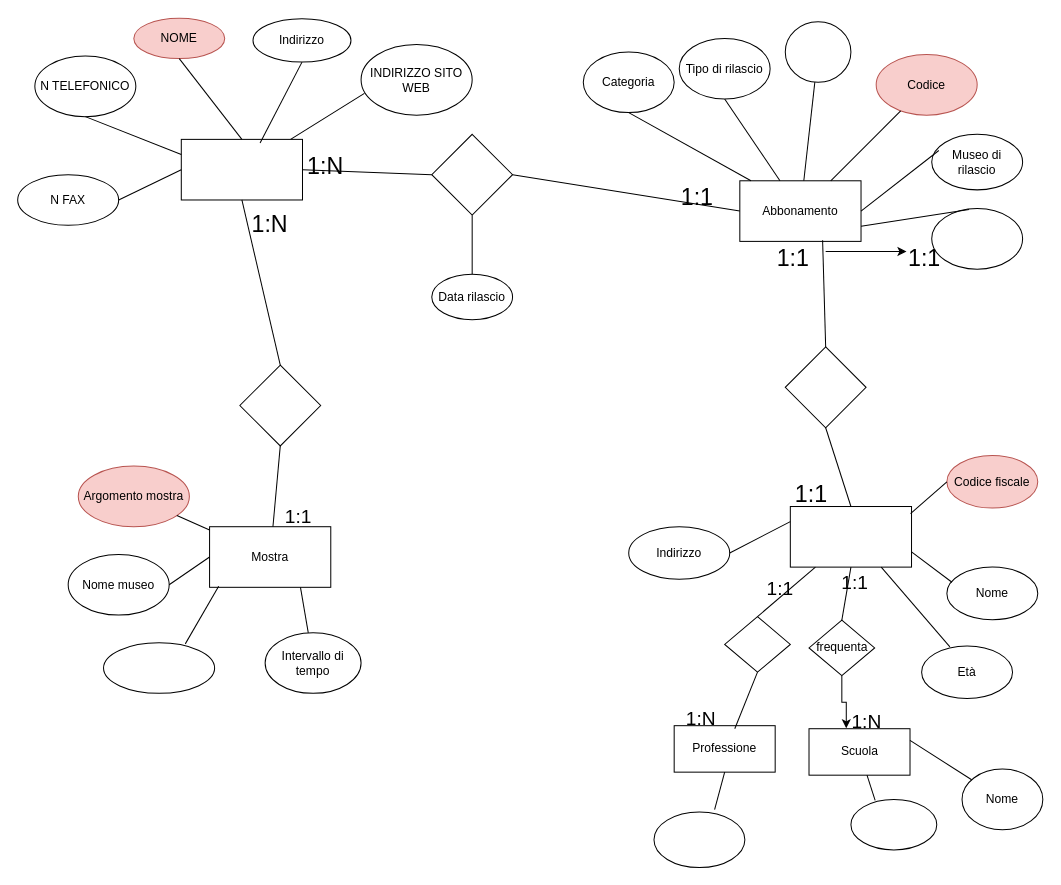
The diagram is 1061 pixels wide and 885 high, and some of its shapes have lost their labels. Each missing label, with the box of its shape:
Affluenza: (103, 642, 215, 693)
Avviene la: (239, 364, 321, 446)
Costo: (784, 21, 851, 82)
E' posseduto da: (784, 346, 866, 428)
Intestatario: (931, 208, 1023, 269)
MUSEO: (180, 138, 302, 200)
Persona: (789, 506, 912, 567)
Rilascia: (431, 133, 513, 215)
svolge: (724, 616, 790, 672)
Tipo: (850, 798, 937, 850)
Tipo professione: (653, 811, 745, 868)
